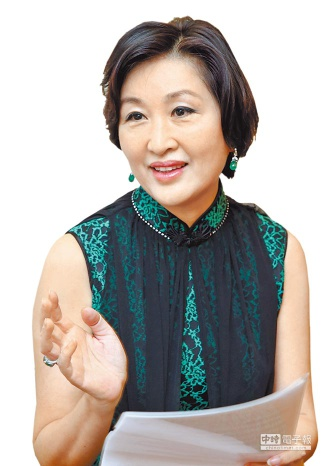female: (104, 9, 260, 218)
